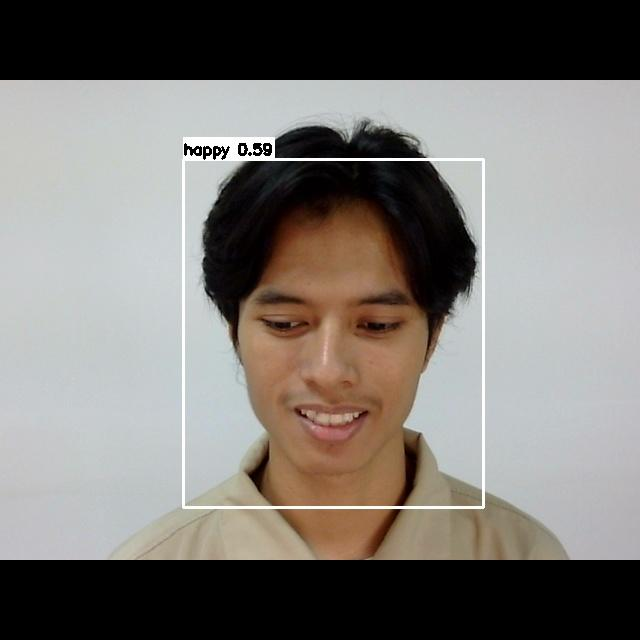Happy: (211, 255, 459, 457)
